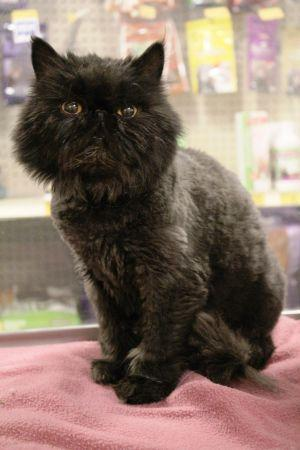persian: (5, 30, 194, 203)
